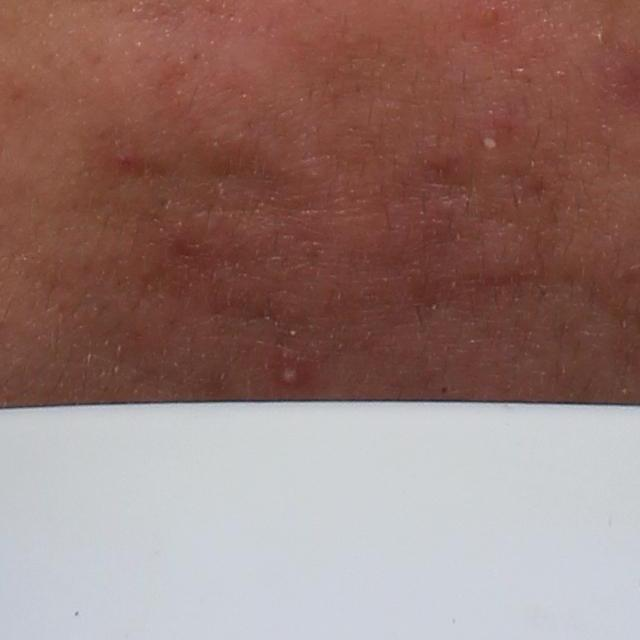pustule: (475, 124, 503, 156), (275, 357, 303, 385)
